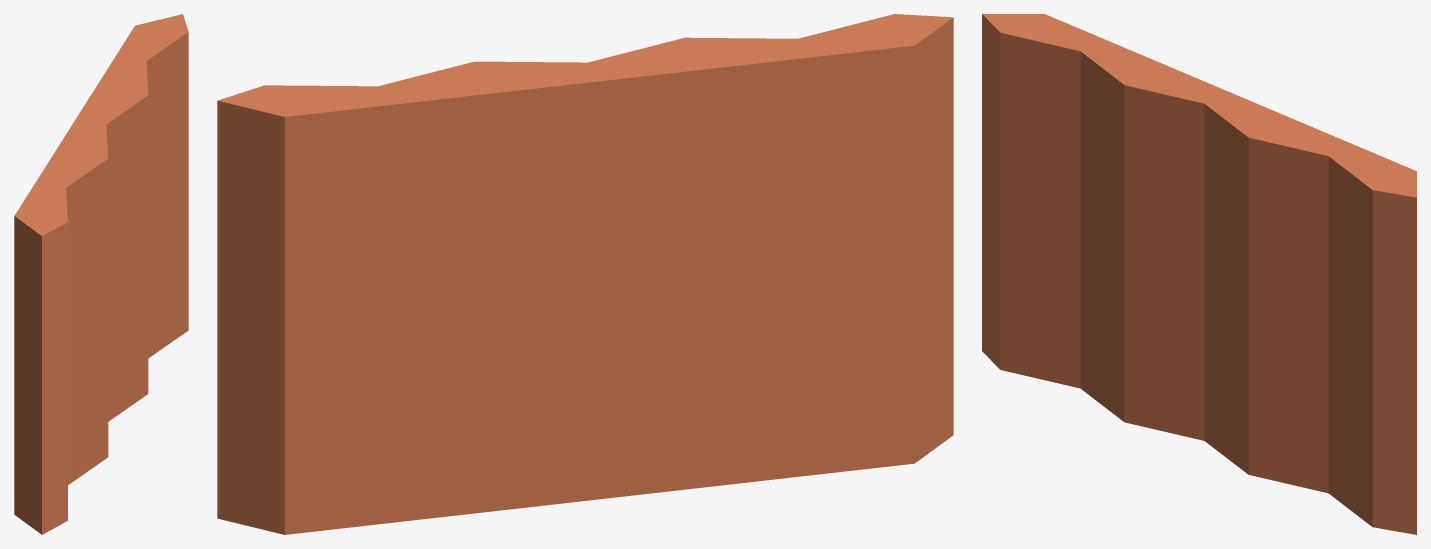
Rendered from cliff_diagonal_rock.dae.
3 views of the same model, side by side, from view 1: azimuth 30°, elevation 25°; view 2: azimuth 150°, elevation 25°; view 3: azimuth 270°, elevation 25° (orthographic). The views are drawn at different scales.
Visible parts, largest first — view 1: cliff_diagonal_rock; view 2: cliff_diagonal_rock; view 3: cliff_diagonal_rock.
Part boxes in pixels (left/top/right/bottom): cliff_diagonal_rock: left=14, top=14, right=188, bottom=534; cliff_diagonal_rock: left=217, top=14, right=953, bottom=534; cliff_diagonal_rock: left=982, top=14, right=1416, bottom=534.
Bounding box in the file's own units: 1.17 × 1 × 1.17.
